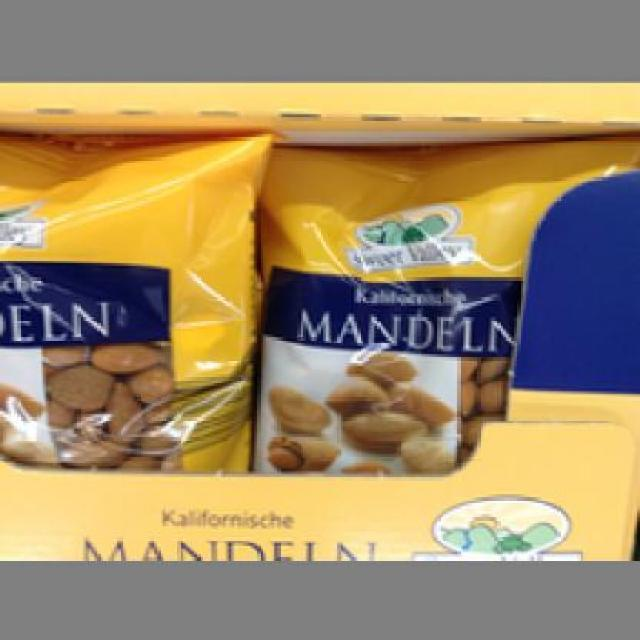Nuts: (254, 146, 632, 472), (0, 130, 272, 472)
